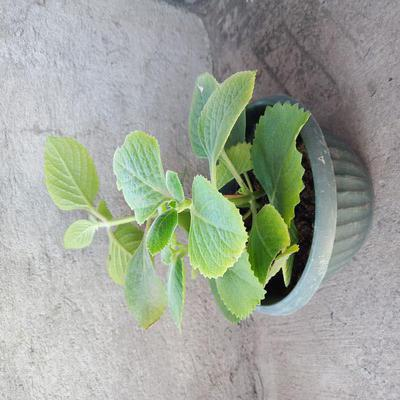Oregano: (32, 94, 305, 316)
